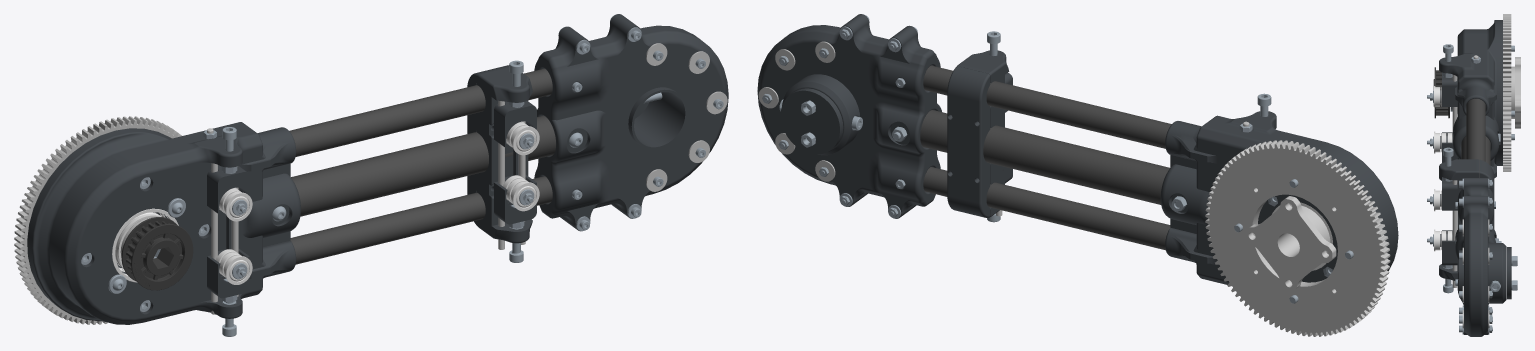
The picture shows the model from 3 angles, left to right: view 1: azimuth 30°, elevation 25°; view 2: azimuth 150°, elevation 25°; view 3: azimuth 270°, elevation 25°; orthographic projection. The views are drawn at different scales.
Visible parts, largest first — view 1: NF24-ARM02-CP04, NF24-ARM-CP06-00, NF24-ARM-EXT1 (×2), NF24-ARM-EXT3, Part 1, NF24-ARM02-CP17 (×4), am-3403 24 tooth HTD pulley half 500hex (×2), NF24-ARM02-CP01, NF24-ARM02-01 <1>, Part 2; view 2: NF24-ARM02-CP01, NF24-ARM-CP06-00, NF24-ARM02-CP04, NF24-ARM-EXT1 (×2), NF24-ARM-EXT3, Part 2, NF24-ARM02-CP00, NF24-ARM02-CP20, Part 1; view 3: NF24-ARM-CP06-00, NF24-ARM02-CP04, NF24-ARM02-CP17 (×4), NF24-ARM02-CP01, NF24-ARM-EXT1, Part 1, NF24-ARM02-CP00, bearing_688zz_2_1 (×4), Hex socket head cap screw M5x0.80 x 30 (×3), NF24-ARM02-CP18 (×2), Part 2, NF24-ARM-EXT3 (+3 smaller).
Boxes of the visible parts, x1,y1,x2,y2 form: NF24-ARM02-CP04: [27, 122, 300, 324]; NF24-ARM-CP06-00: [534, 14, 728, 231]; NF24-ARM-EXT1 (×2): [289, 68, 552, 264]; NF24-ARM-EXT3: [291, 115, 555, 216]; Part 1: [476, 66, 532, 243]; NF24-ARM02-CP17 (×4): [207, 101, 536, 298]; am-3403 24 tooth HTD pulley half 500hex (×2): [121, 217, 193, 290]; NF24-ARM02-CP01: [14, 116, 181, 324]; NF24-ARM02-01 <1>: [112, 208, 178, 282]; Part 2: [467, 65, 509, 224]; NF24-ARM02-CP01: [1205, 140, 1390, 336]; NF24-ARM-CP06-00: [757, 14, 941, 218]; NF24-ARM02-CP04: [1160, 111, 1398, 284]; NF24-ARM-EXT1 (×2): [923, 65, 1171, 250]; NF24-ARM-EXT3: [920, 110, 1169, 204]; Part 2: [947, 66, 990, 217]; NF24-ARM02-CP00: [1245, 196, 1336, 291]; NF24-ARM02-CP20: [780, 88, 843, 154]; Part 1: [957, 50, 1009, 216]; NF24-ARM-CP06-00: [1455, 178, 1506, 336]; NF24-ARM02-CP04: [1439, 20, 1502, 180]; NF24-ARM02-CP17 (×4): [1442, 72, 1457, 265]; NF24-ARM02-CP01: [1503, 14, 1511, 171]; NF24-ARM-EXT1: [1466, 98, 1485, 177]; Part 1: [1439, 159, 1479, 280]; NF24-ARM02-CP00: [1457, 57, 1520, 128]; bearing_688zz_2_1 (×4): [1434, 86, 1440, 251]; Hex socket head cap screw M5x0.80 x 30 (×3): [1443, 44, 1453, 293]; NF24-ARM02-CP18 (×2): [1452, 74, 1457, 287]; Part 2: [1480, 160, 1494, 228]; NF24-ARM-EXT3: [1461, 136, 1490, 165].
Size of the model in its own units: 0.4673 by 0.1331 by 0.077.
